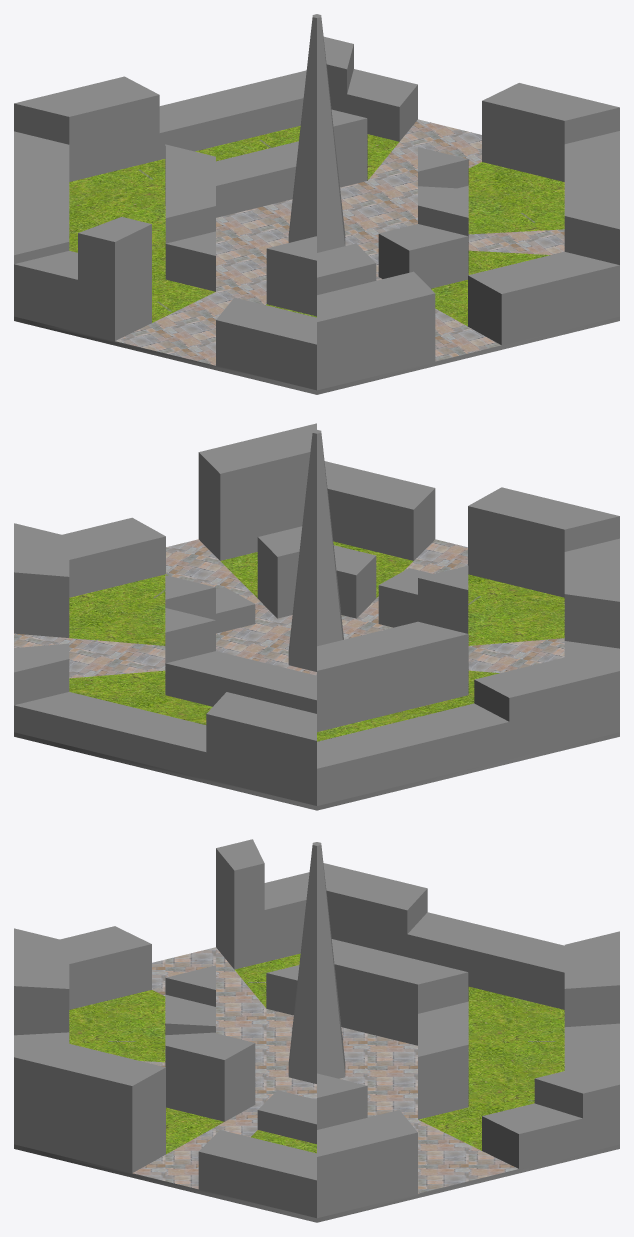
3 views of the same model, one above another, from view 1: azimuth 30°, elevation 25°; view 2: azimuth 150°, elevation 25°; view 3: azimuth 270°, elevation 25° (orthographic).
Visible parts, largest first — view 1: Cylinder007; view 2: Cylinder007; view 3: Cylinder007.
Boxes of the visible parts, x1,y1,x2,y2 form: Cylinder007: [14, 14, 619, 394]; Cylinder007: [14, 423, 619, 810]; Cylinder007: [14, 839, 619, 1222].
Bounding box in the file's own units: 140 × 51 × 121.
5 materials, 2 textured.
